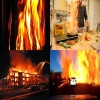fire: (15, 0, 45, 49), (60, 50, 99, 84), (6, 67, 39, 86), (65, 0, 83, 33), (8, 10, 12, 50)
